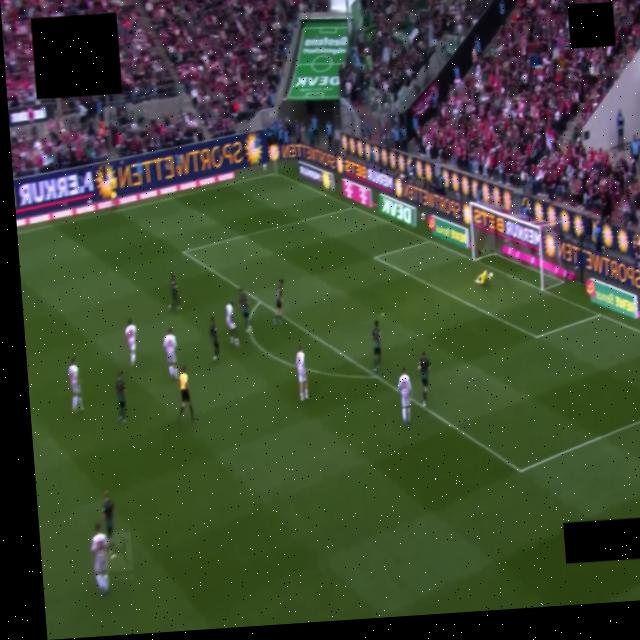player: (90, 523, 108, 594), (101, 491, 115, 557), (68, 357, 83, 412), (162, 328, 178, 379), (397, 367, 411, 424), (295, 347, 308, 401), (225, 302, 239, 346), (114, 372, 126, 423), (418, 352, 429, 407), (124, 318, 136, 366), (238, 289, 251, 332), (272, 279, 283, 324), (371, 321, 380, 373), (168, 272, 180, 309), (209, 317, 218, 361), (475, 270, 492, 285)
referee: (178, 366, 194, 420)
